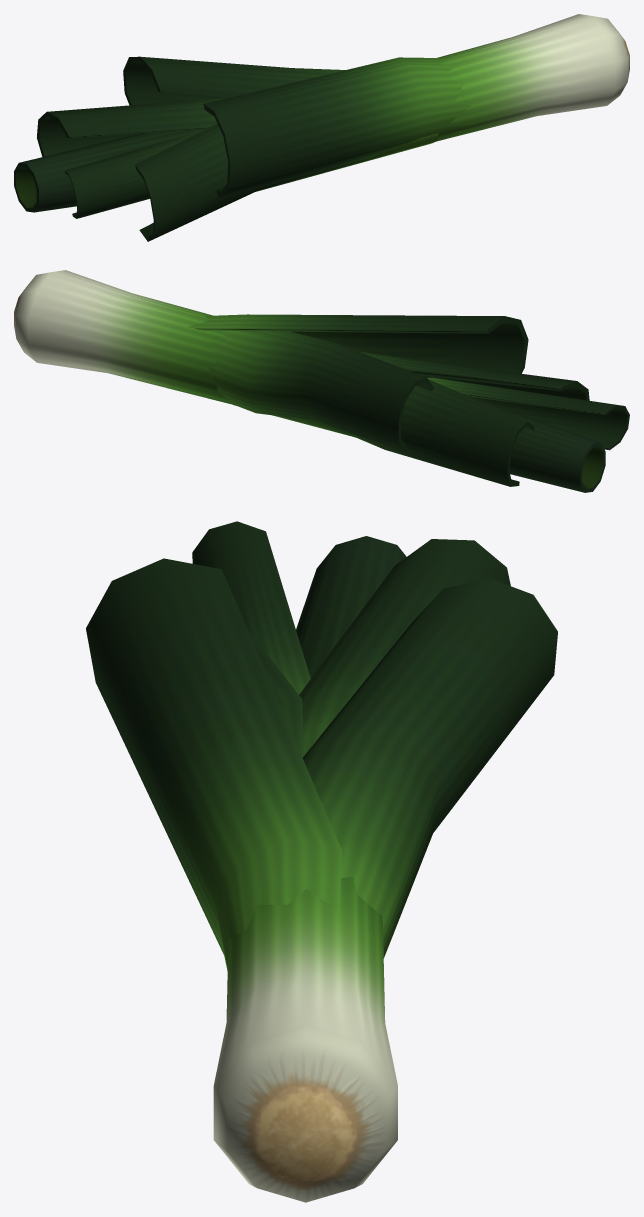
File: Leek_02.fbx
The picture shows the model from 3 angles, top to bottom: view 1: azimuth 30°, elevation 25°; view 2: azimuth 150°, elevation 25°; view 3: azimuth 270°, elevation 25°; orthographic projection. The views are drawn at different scales.
Visible parts, largest first — view 1: Leek_02; view 2: Leek_02; view 3: Leek_02.
Part boxes in pixels (x1,y1,x2,y2): Leek_02: [14, 14, 629, 241]; Leek_02: [14, 270, 629, 492]; Leek_02: [86, 521, 557, 1202].
Size of the model in its own units: 114 by 22.4 by 40.22.
